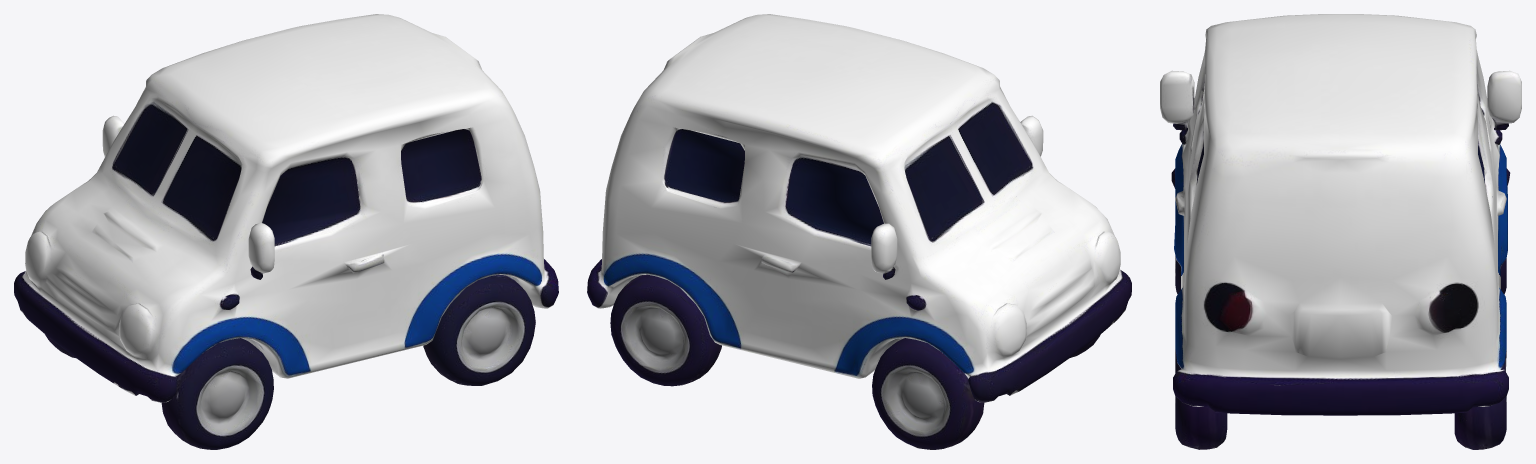
The model's file is van.glb.
3 views of the same model, side by side, from view 1: azimuth 30°, elevation 25°; view 2: azimuth 150°, elevation 25°; view 3: azimuth 270°, elevation 25° (orthographic). The views are drawn at different scales.
Bounding box in the file's own units: 1.91 × 1.22 × 1.23.
1 material, 1 textured.
